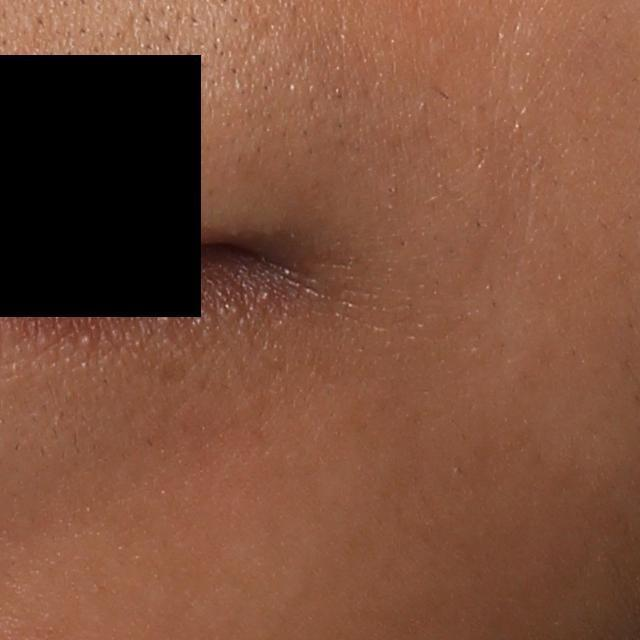comedo: (76, 331, 92, 345)
